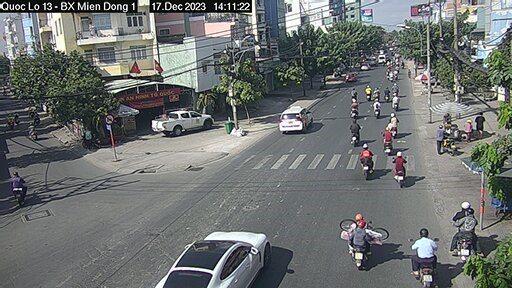car: (172, 229, 270, 286), (151, 108, 215, 136), (275, 106, 314, 135)
motorbike: (346, 218, 379, 276), (409, 231, 437, 284), (450, 210, 477, 260), (390, 154, 416, 191), (10, 168, 34, 208), (358, 144, 378, 179), (348, 121, 363, 147), (380, 132, 394, 155), (383, 116, 398, 136), (348, 102, 365, 119), (371, 98, 383, 117), (392, 92, 401, 114)
